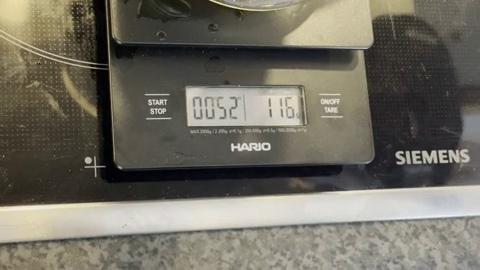display: (186, 86, 303, 125)
